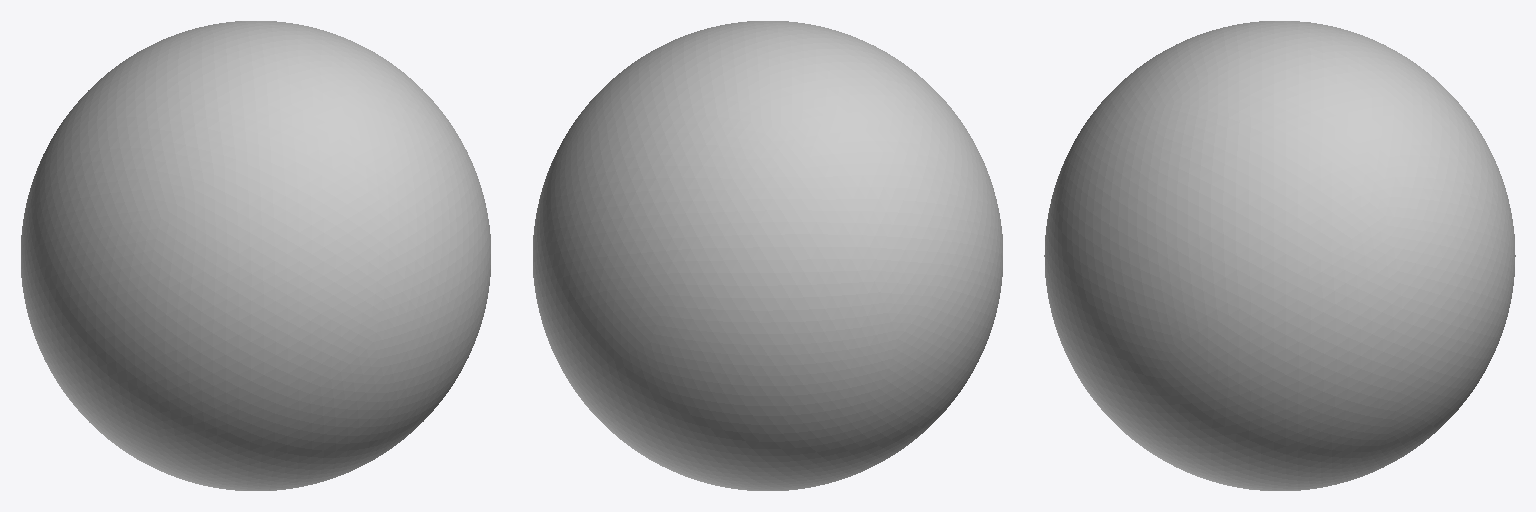
File: bloodorbNEW.obj
3 renders of one model, left to right at view 1: azimuth 30°, elevation 25°; view 2: azimuth 150°, elevation 25°; view 3: azimuth 270°, elevation 25°, orthographic.
Parts seen in each view (by area): view 1: pPlatonic1; view 2: pPlatonic1; view 3: pPlatonic1.
Boxes of the visible parts, box(x1,y1,x2,y2) form: pPlatonic1: box(21, 21, 490, 490); pPlatonic1: box(533, 21, 1002, 490); pPlatonic1: box(1044, 21, 1515, 490).
Bounding box in the file's own units: 2 × 2 × 2.